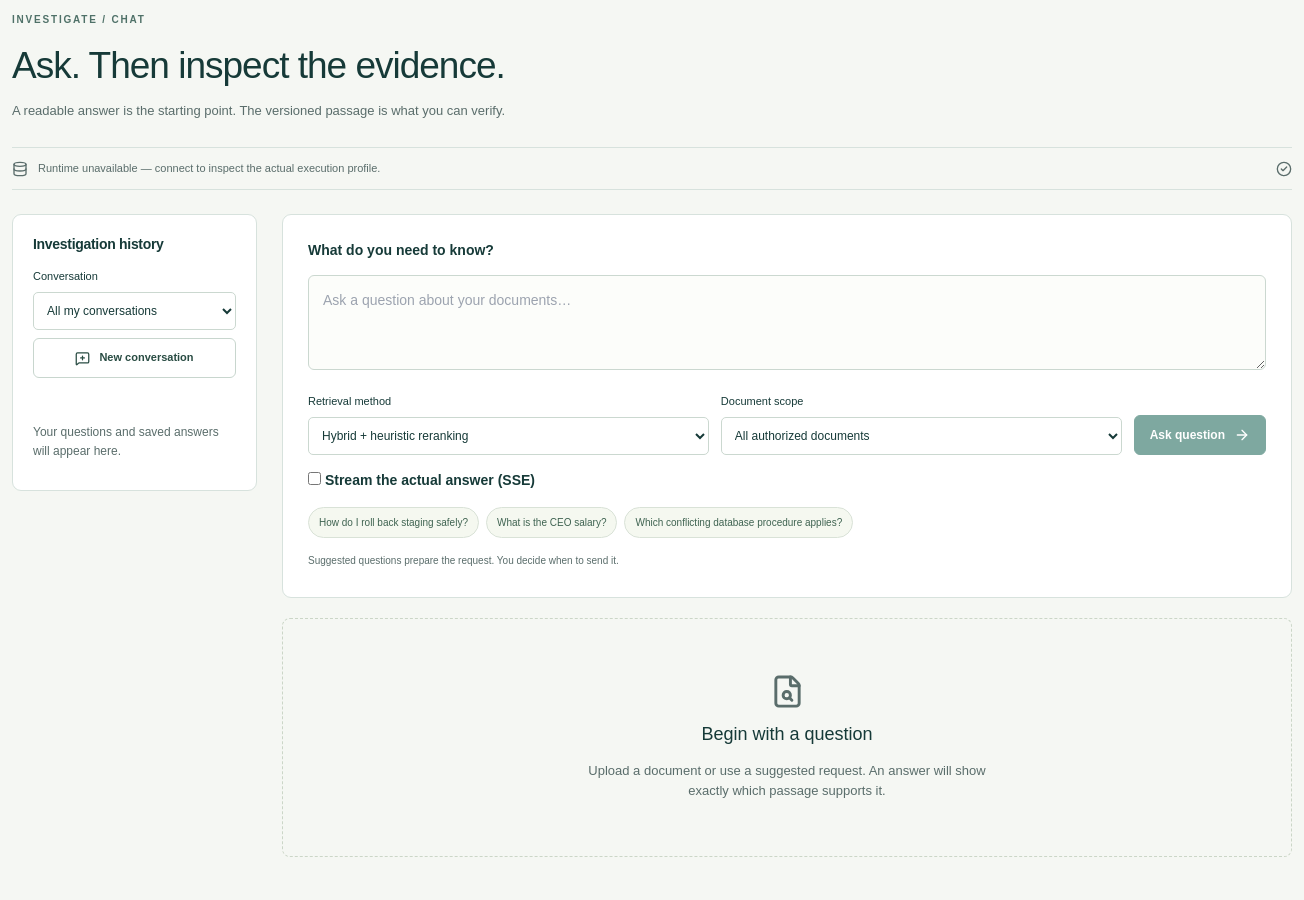
Scenario: connected chat request lifecycle › waits for a new conversation before permitting a question, retaining its draft
Step 1. Click the button "New conversation" → click(134, 358), box [33,338,236,378]
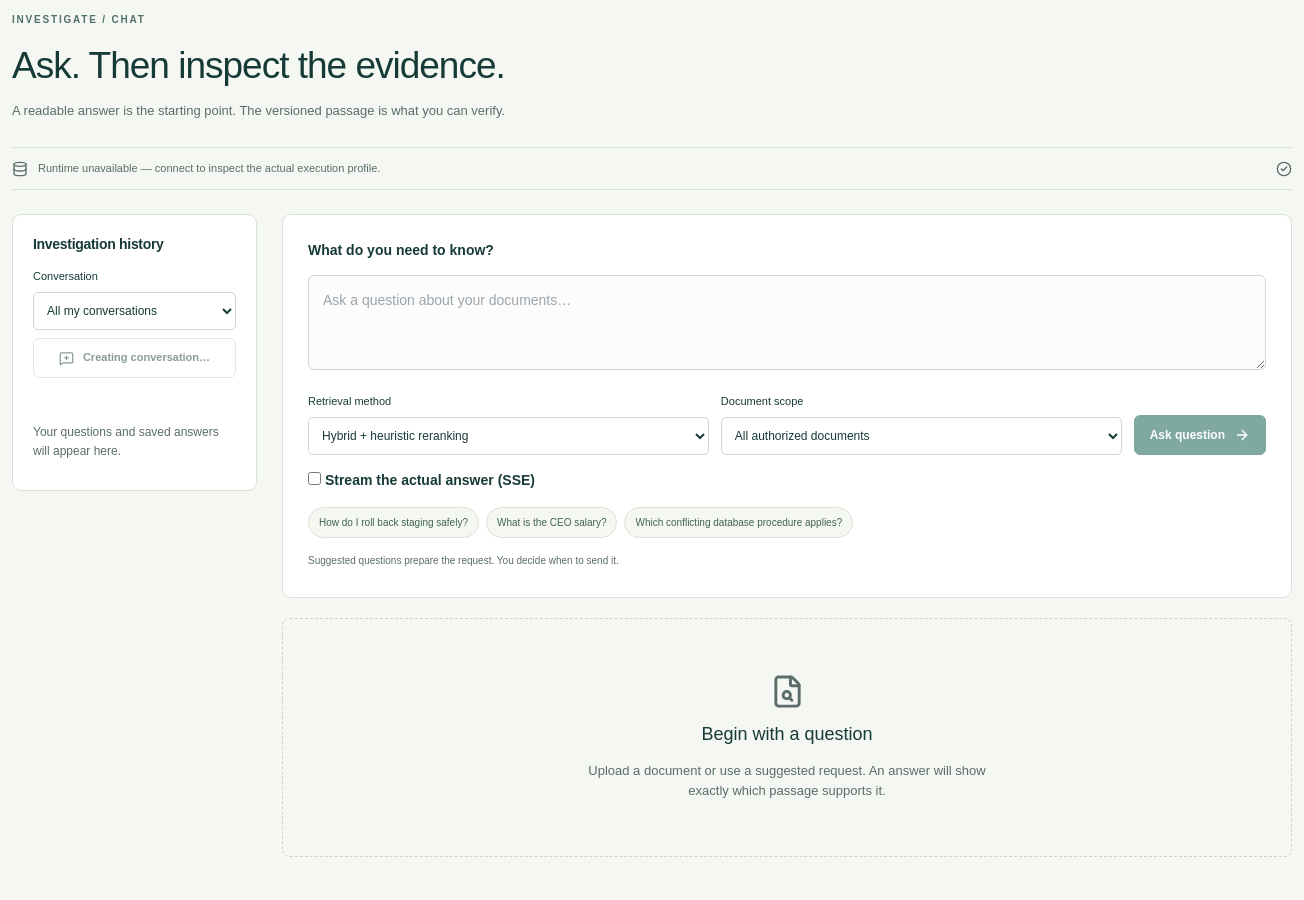
Step 2. Type "Keep this draft" into the text box labelled "What do you need to know?" → (787, 323), box [308,275,1266,370]
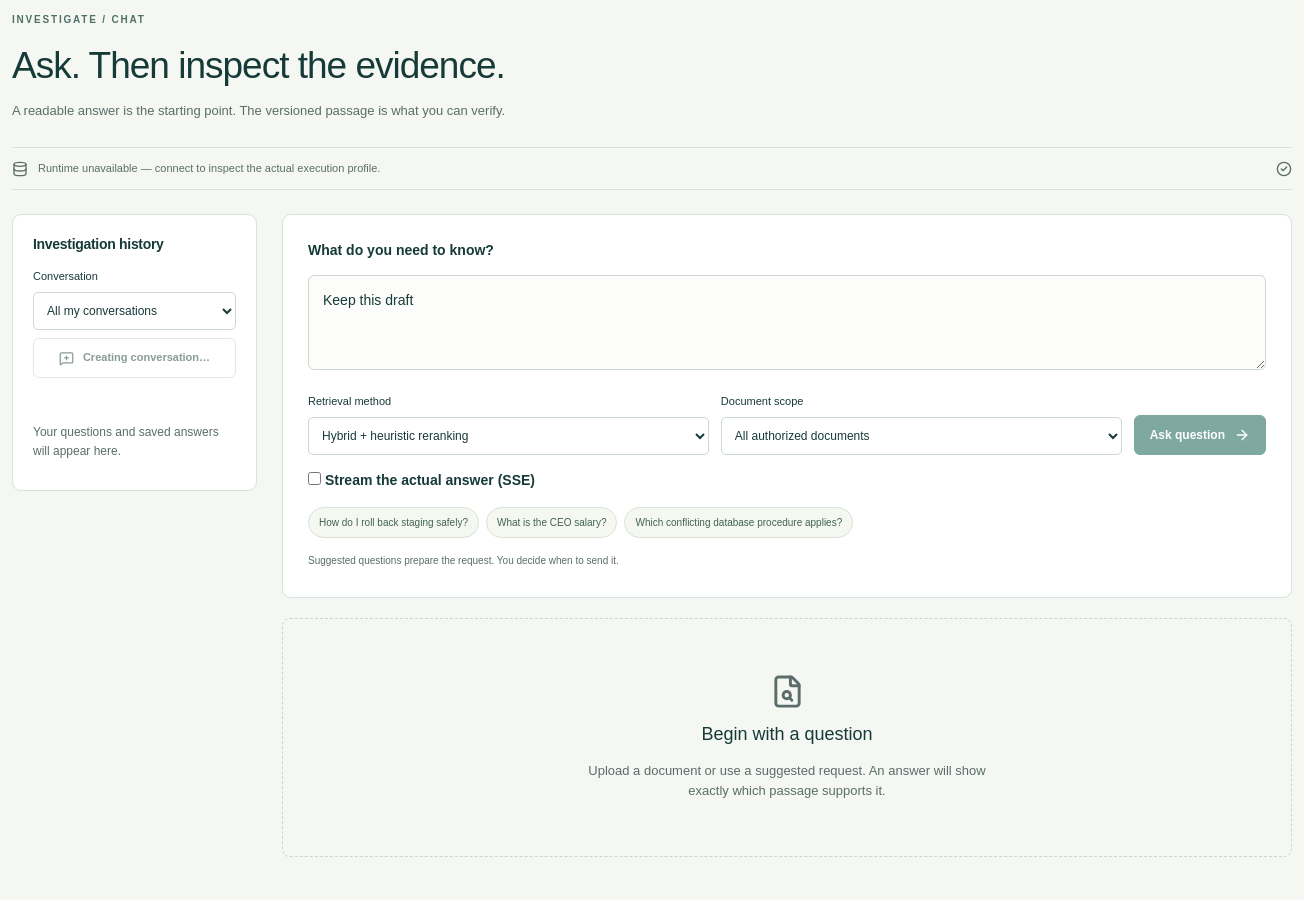
Expected: the button "Ask question" is disabled, [1134,415,1266,455]
Step 3. Click the button named "New conversation" → click(134, 358), box [33,338,236,378]
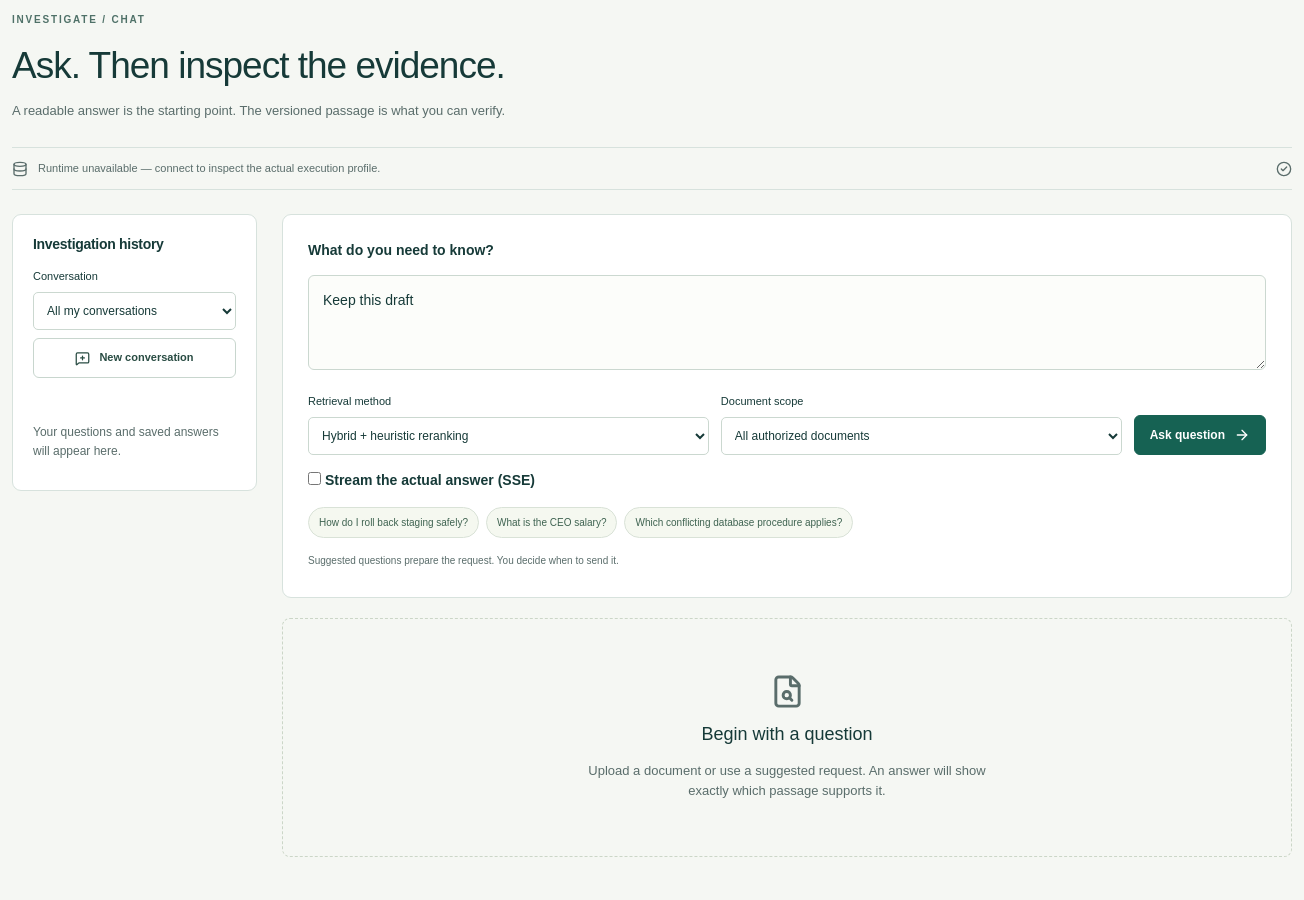
Now the button "Ask question" is enabled, box [1134,415,1266,455]
